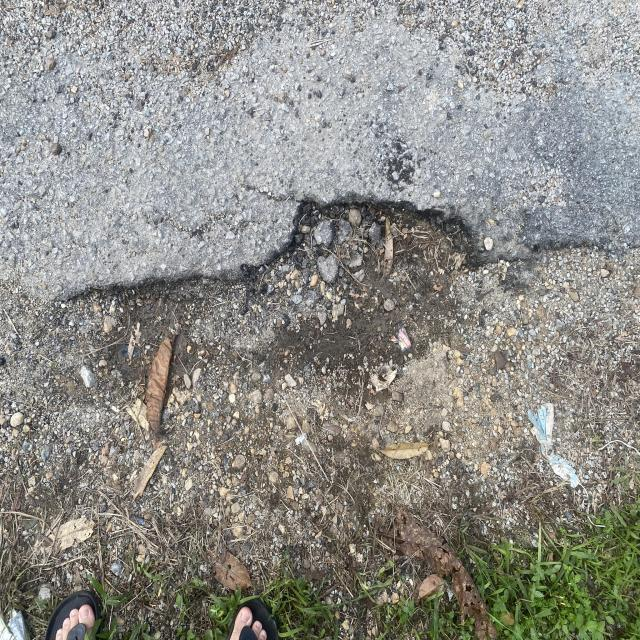Pothole: (78, 134, 586, 378)
